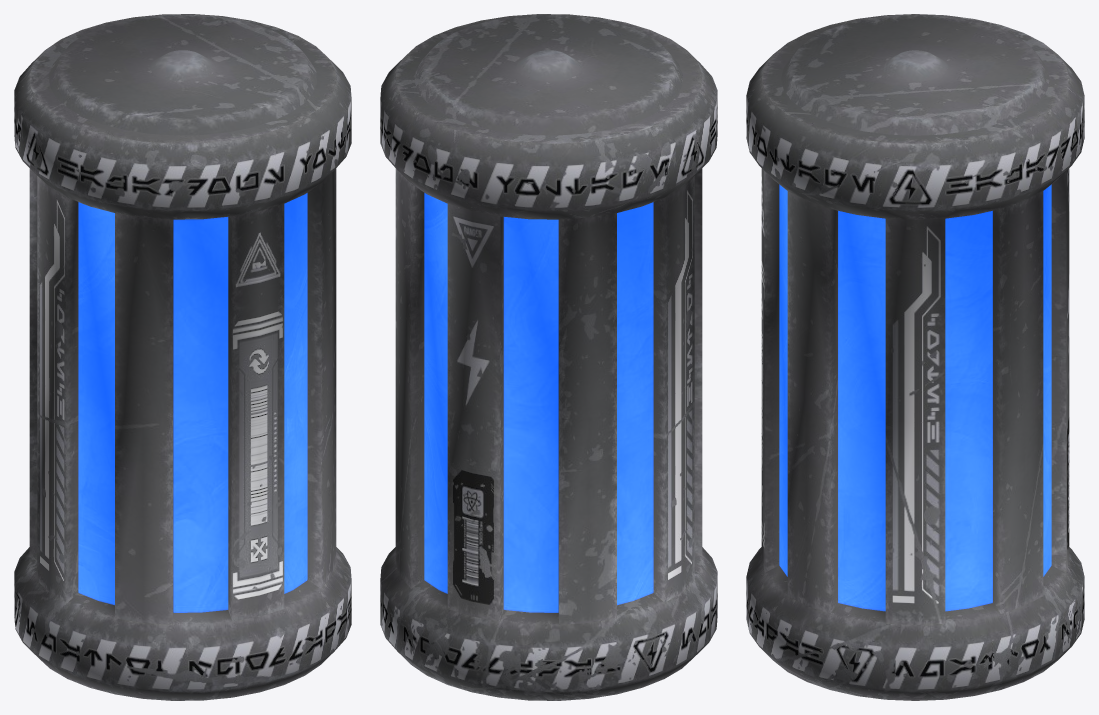
File: EC_Power_Cell.fbx
3 views of the same model, side by side, from view 1: azimuth 30°, elevation 25°; view 2: azimuth 150°, elevation 25°; view 3: azimuth 270°, elevation 25° (orthographic).
Visible parts, largest first — view 1: EV Power Cell; view 2: EV Power Cell; view 3: EV Power Cell.
Part boxes in pixels (x1,y1,x2,y2): EV Power Cell: (14, 14, 351, 700); EV Power Cell: (380, 14, 717, 700); EV Power Cell: (746, 14, 1084, 700).
Bounding box in the file's own units: 220 × 429 × 220.
Materials: 1 (1 with a texture image).
